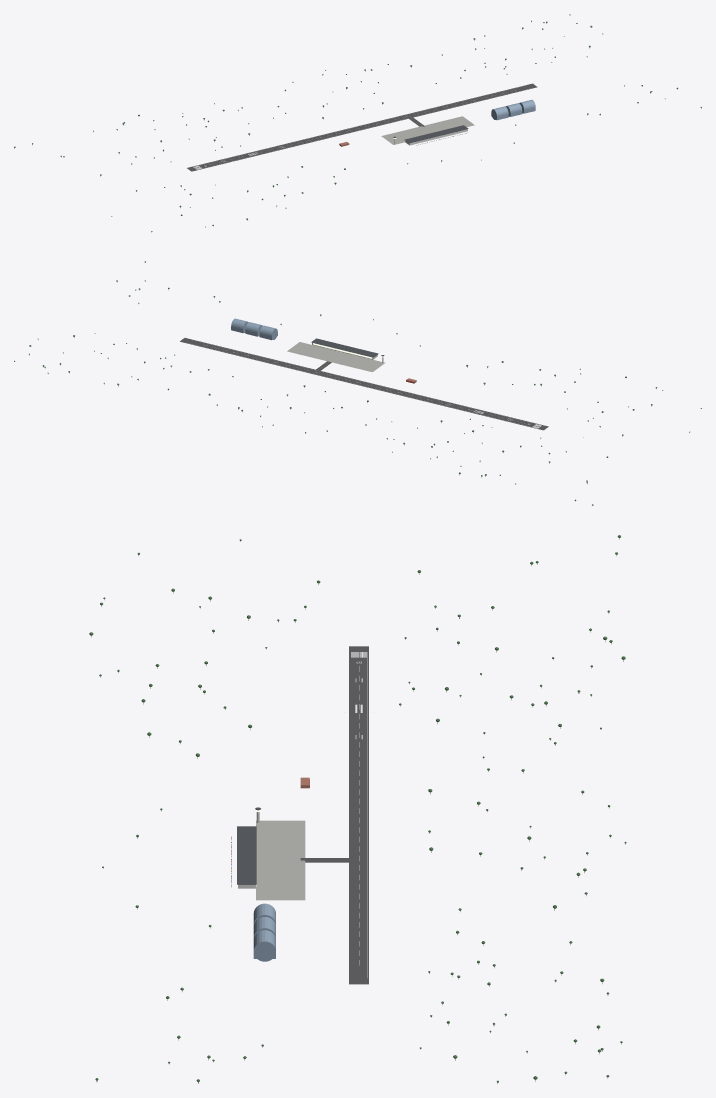
The model's file is airport.glb.
The picture shows the model from 3 angles, top to bottom: view 1: azimuth 30°, elevation 25°; view 2: azimuth 150°, elevation 25°; view 3: azimuth 270°, elevation 25°; orthographic projection. The views are drawn at different scales.
Visible parts, largest first — view 1: Runway asphalt, Apron, Hangar blue, Hedge green; view 2: Runway asphalt, Apron, Hangar blue, Hedge green; view 3: Runway asphalt, Apron, Hangar blue, Hedge green, Dark metal.
Part boxes in pixels (x1,y1,x2,y2): Runway asphalt: (187, 83, 537, 171); Apron: (381, 116, 474, 144); Hangar blue: (491, 100, 535, 120); Hedge green: (14, 14, 701, 231); Runway asphalt: (180, 338, 548, 430); Apron: (287, 342, 385, 372); Hangar blue: (231, 318, 277, 340); Hedge green: (14, 261, 701, 505); Runway asphalt: (300, 646, 368, 984); Apron: (256, 820, 305, 900); Hangar blue: (253, 903, 275, 961); Hedge green: (89, 535, 626, 1082); Dark metal: (237, 807, 260, 884).
Size of the model in its own units: 2878 by 50 by 1198.
